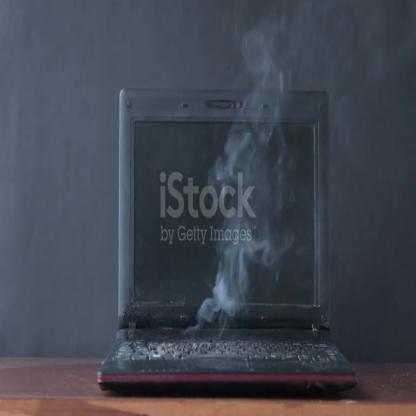smoke: (194, 1, 383, 353)
